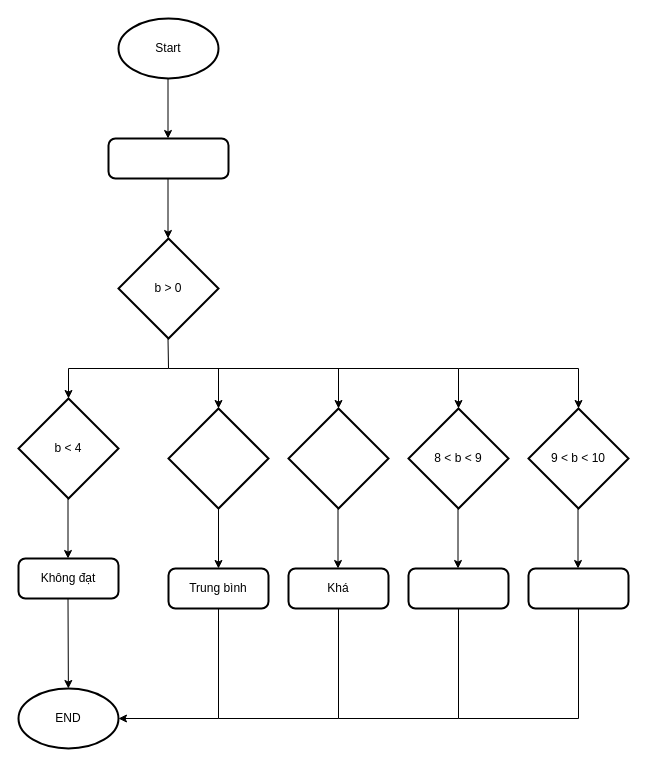
Image size: 646x766. Some labels were removed from this diagram. The centre of each missing label's shape, as x and y in pixels:
"4 < b < 6" belongs at (x=218, y=458).
"6 < b < 8" belongs at (x=338, y=458).
"Gioi" belongs at (x=458, y=588).
"Nhập số điểm b" belongs at (x=168, y=158).
"Xuất sắc" belongs at (x=578, y=588).
